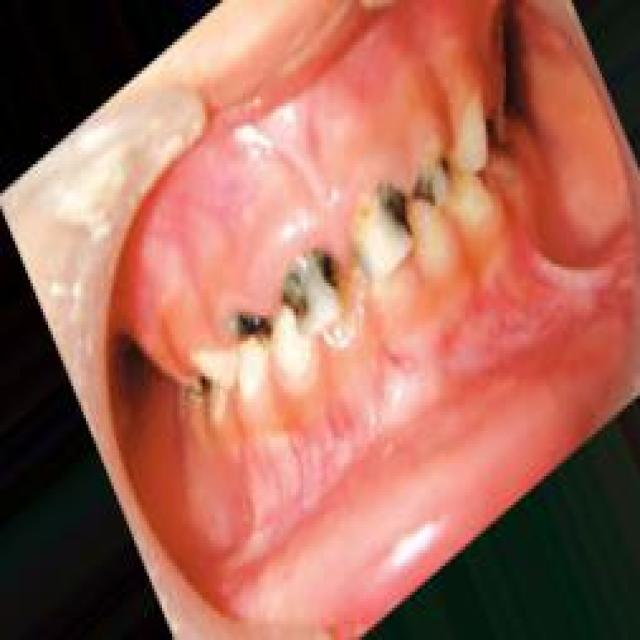caries: (343, 177, 417, 279), (274, 250, 344, 342), (410, 153, 460, 219), (226, 300, 280, 356)
